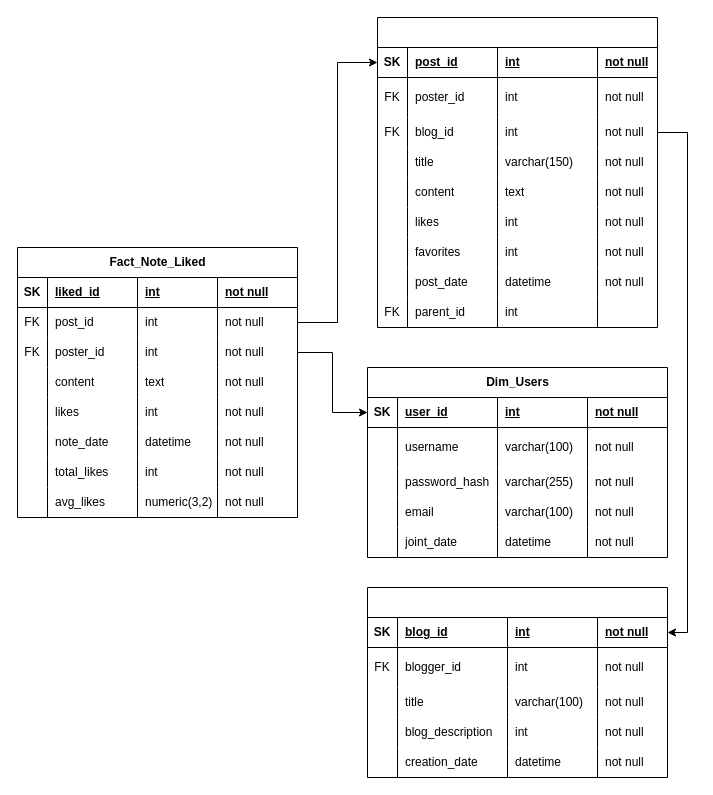
The diagram is 713 pixels wide and 795 high, and some of its shapes have lost their labels. Here are the shapes that lost their labels. From the top down, the box of each, then its label:
(376, 16, 658, 328): Dim_Posts
(366, 586, 668, 778): Dim_Blogs
